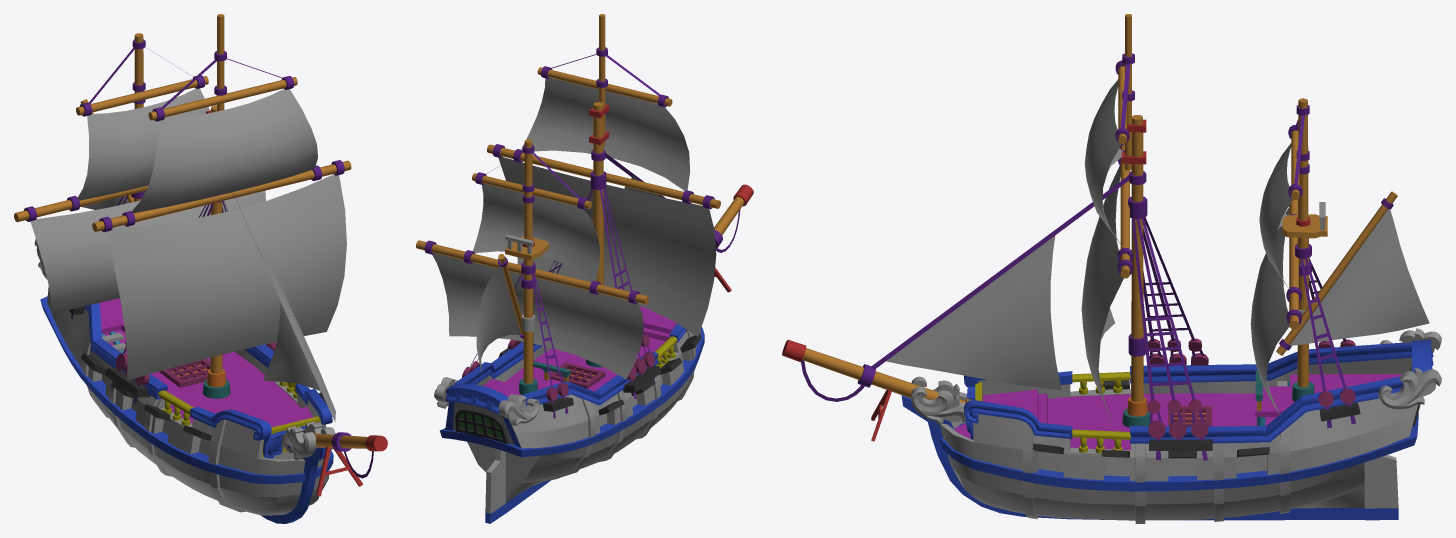
Rendered from Brigantine_mm.fbx.
3 renders of one model, left to right at view 1: azimuth 30°, elevation 25°; view 2: azimuth 150°, elevation 25°; view 3: azimuth 270°, elevation 25°, orthographic. The views are drawn at different scales.
Parts seen in each view (by area): view 1: Sails, Brigantine, Update_02, Update_01; view 2: Sails, Brigantine, Update_02, Update_01, Rudder; view 3: Brigantine, Sails, Update_01, Update_02, Rudder.
Boxes of the visible parts, left/top/right/bottom form: Sails: left=30, top=88, right=346, bottom=421; Brigantine: left=14, top=14, right=387, bottom=523; Update_02: left=82, top=332, right=245, bottom=512; Update_01: left=34, top=238, right=335, bottom=460; Sails: left=432, top=77, right=716, bottom=379; Brigantine: left=416, top=14, right=753, bottom=513; Update_02: left=544, top=330, right=695, bottom=481; Update_01: left=434, top=377, right=540, bottom=425; Rudder: left=485, top=449, right=505, bottom=523; Brigantine: left=782, top=14, right=1433, bottom=520; Sails: left=886, top=79, right=1429, bottom=423; Update_01: left=911, top=328, right=1441, bottom=425; Update_02: left=1023, top=421, right=1290, bottom=523; Rudder: left=1364, top=455, right=1398, bottom=520.
Bounding box in the file's own units: 781 × 1378 × 1638.
